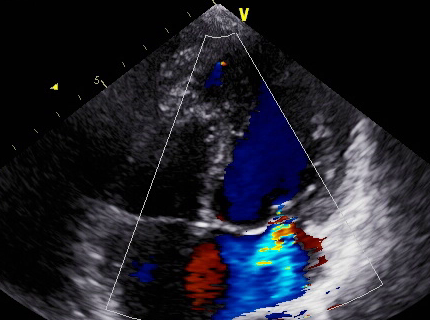MR: (215, 199, 310, 272)
